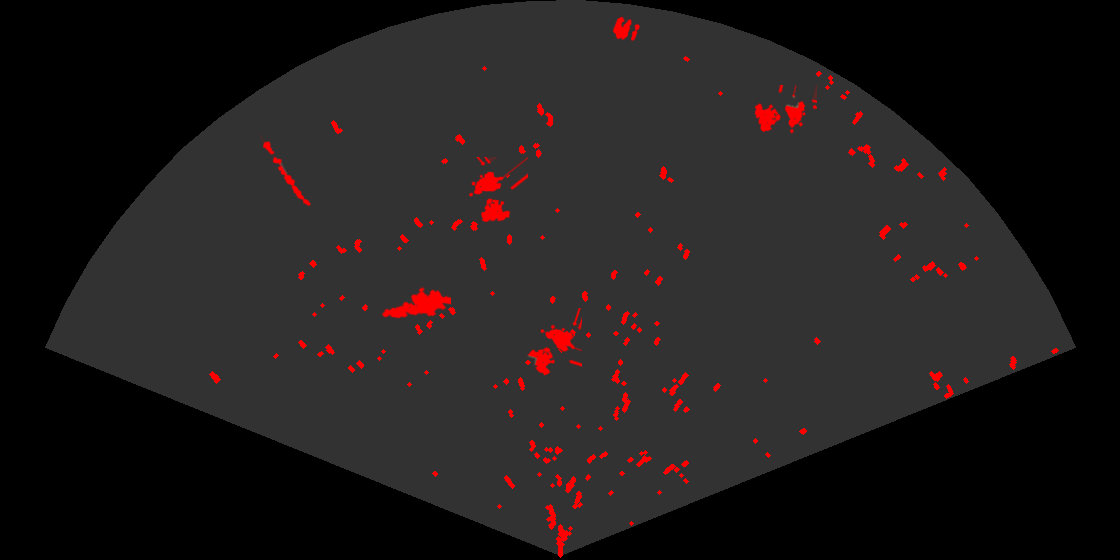ball: (611, 15, 641, 43)
cage: (467, 157, 528, 224), (526, 308, 582, 377), (753, 85, 817, 135)
chain: (258, 135, 312, 208)
frogman: (380, 285, 451, 320)
